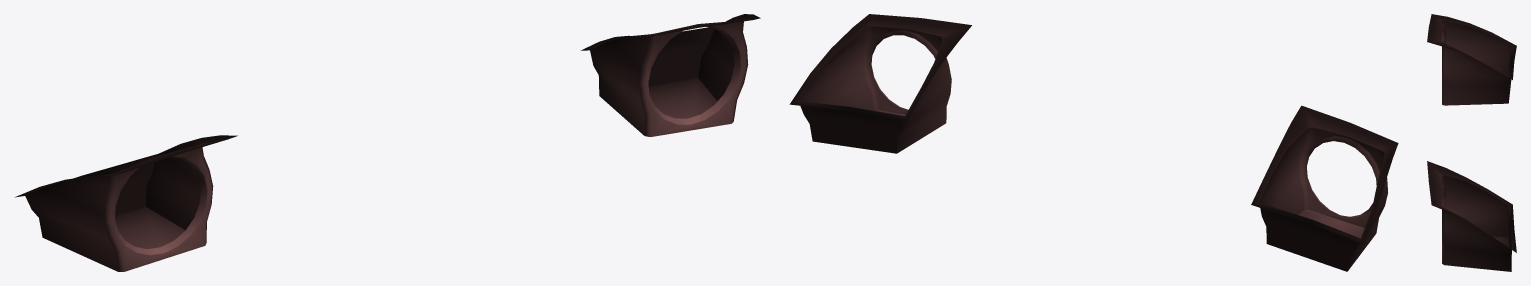
File: MX5_RoundPopUp_Trim.fbx
The picture shows the model from 3 angles, left to right: view 1: azimuth 30°, elevation 25°; view 2: azimuth 150°, elevation 25°; view 3: azimuth 270°, elevation 25°; orthographic projection. The views are drawn at different scales.
Visible parts, largest first — view 1: MX5_RoundPopUp_Trim; view 2: MX5_RoundPopUp_Trim; view 3: MX5_RoundPopUp_Trim.
Boxes of the visible parts, box(x1,y1,x2,y2) form: MX5_RoundPopUp_Trim: box(15, 14, 760, 271); MX5_RoundPopUp_Trim: box(789, 14, 1398, 271); MX5_RoundPopUp_Trim: box(1427, 14, 1516, 271).
Size of the model in its own units: 128 by 21.23 by 23.41.
